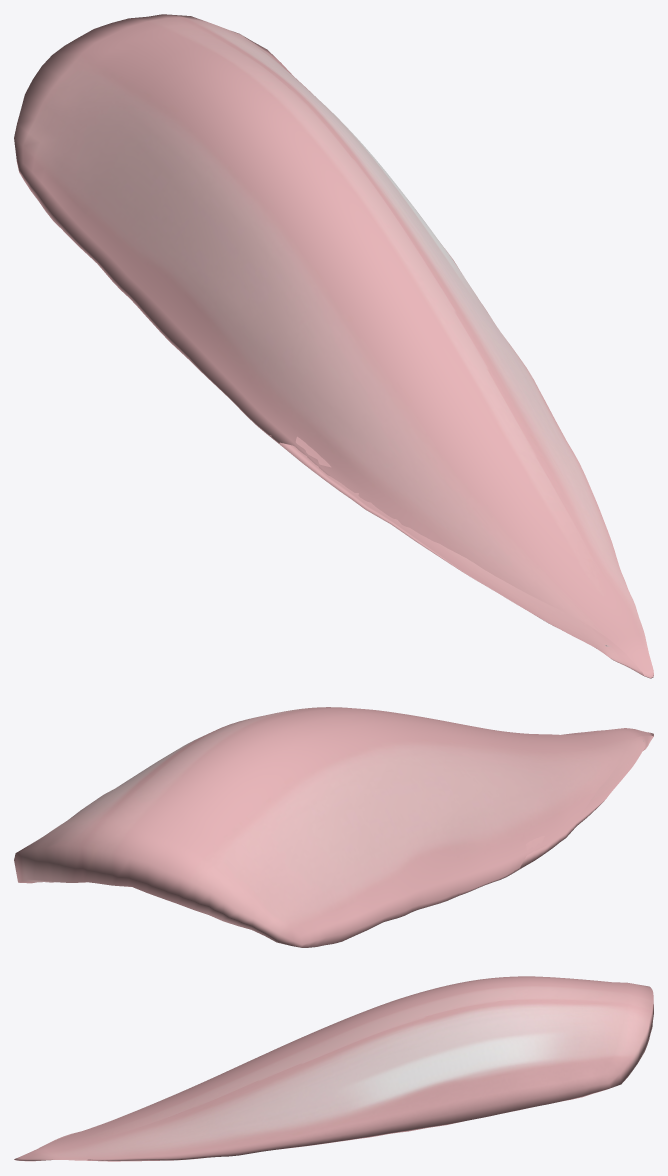
The model's file is Shape key curved nail_new.fbx.
The picture shows the model from 3 angles, top to bottom: view 1: azimuth 30°, elevation 25°; view 2: azimuth 150°, elevation 25°; view 3: azimuth 270°, elevation 25°; orthographic projection. The views are drawn at different scales.
Visible parts, largest first — view 1: 1 curved acrylic nail; view 2: 1 curved acrylic nail; view 3: 1 curved acrylic nail.
Boxes of the visible parts, x1,y1,x2,y2 form: 1 curved acrylic nail: (14,14,653,678); 1 curved acrylic nail: (14,707,653,947); 1 curved acrylic nail: (14,976,653,1161).
Bounding box in the file's own units: 75.02 × 73.48 × 239.
1 material, 1 textured.
